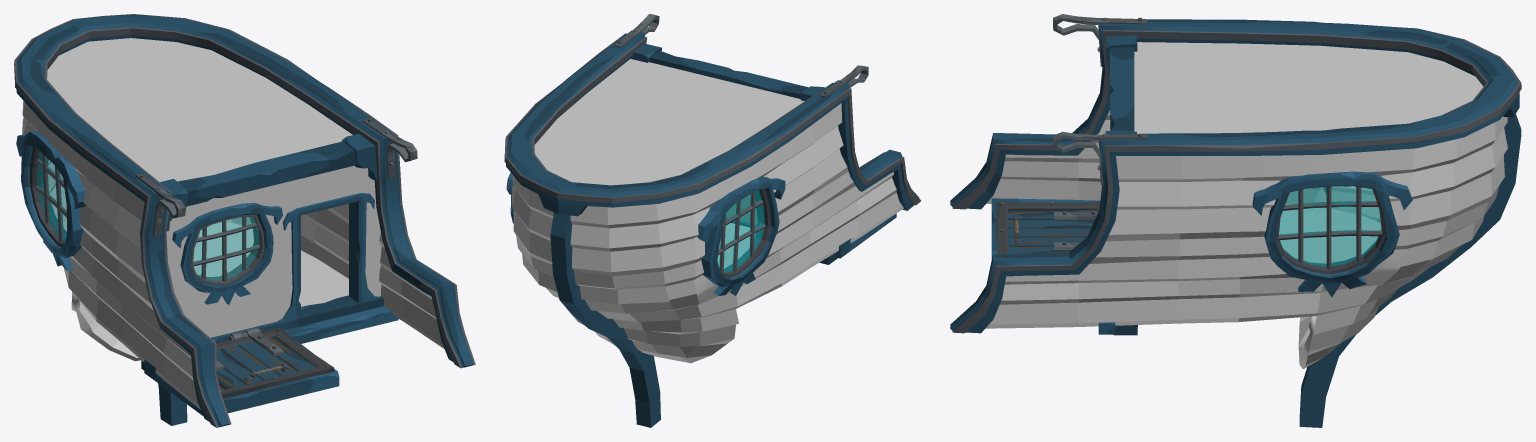
The model's file is SM_Veh_Ship_S_Back_01.fbx.
The picture shows the model from 3 angles, left to right: view 1: azimuth 30°, elevation 25°; view 2: azimuth 150°, elevation 25°; view 3: azimuth 270°, elevation 25°; orthographic projection. The views are drawn at different scales.
Parts seen in each view (by area): view 1: SM_Veh_Ship_S_Back_01; view 2: SM_Veh_Ship_S_Back_01; view 3: SM_Veh_Ship_S_Back_01.
Part boxes in pixels (box(x1,y1,x2,y2)): SM_Veh_Ship_S_Back_01: box(14, 14, 475, 427); SM_Veh_Ship_S_Back_01: box(504, 14, 920, 427); SM_Veh_Ship_S_Back_01: box(950, 14, 1521, 427).
Size of the model in its own units: 531 by 649 by 963.
